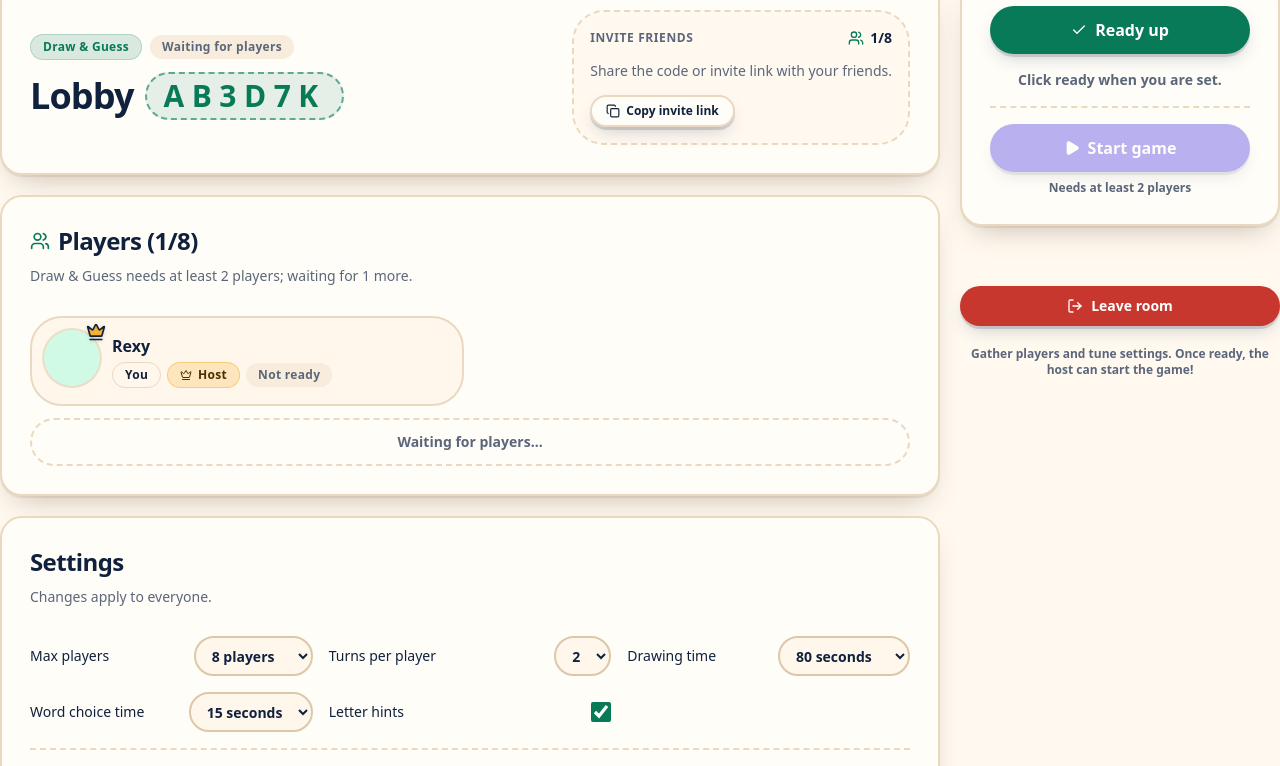
Scenario: LobbyPage › saves host settings with a PATCH
Select "5 players" in the dropdown labelled "Max players": (253, 656) [194,636,313,676]
(page scrolled)
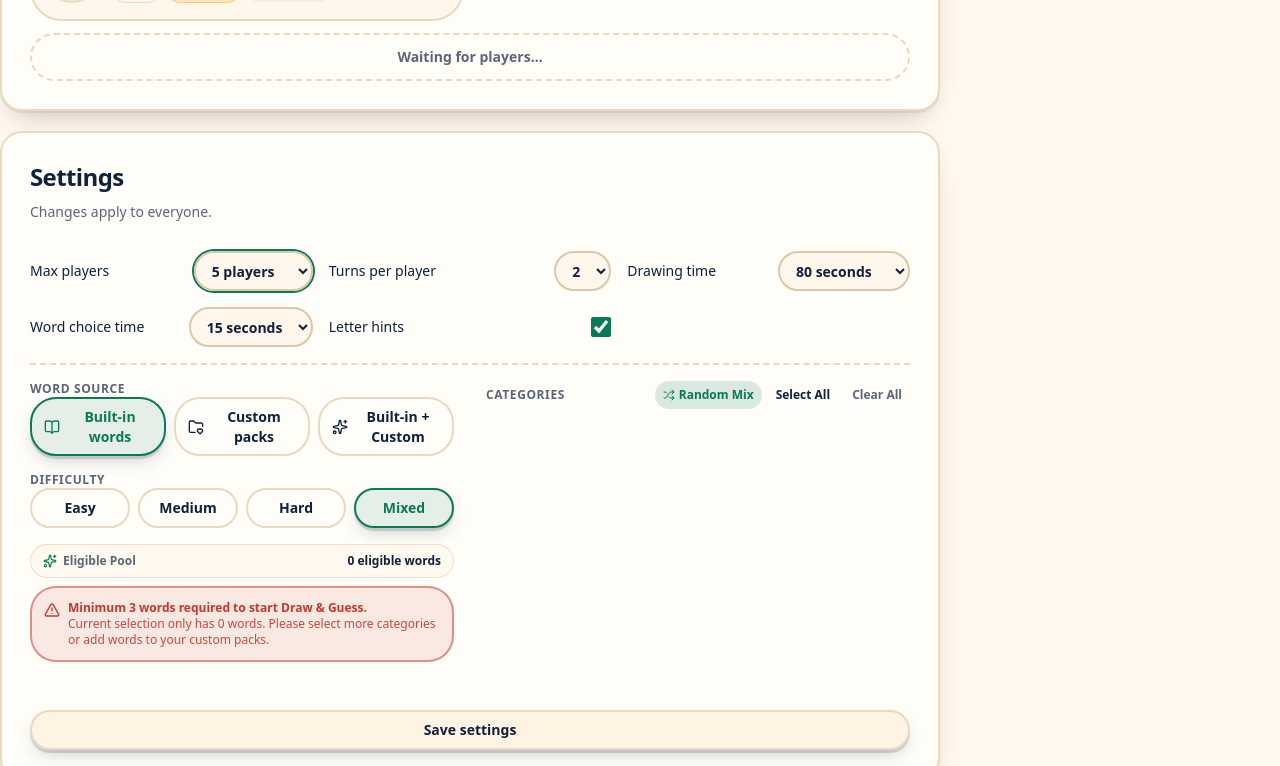
Click the button "Save settings": click(470, 730) [30,710,910,750]
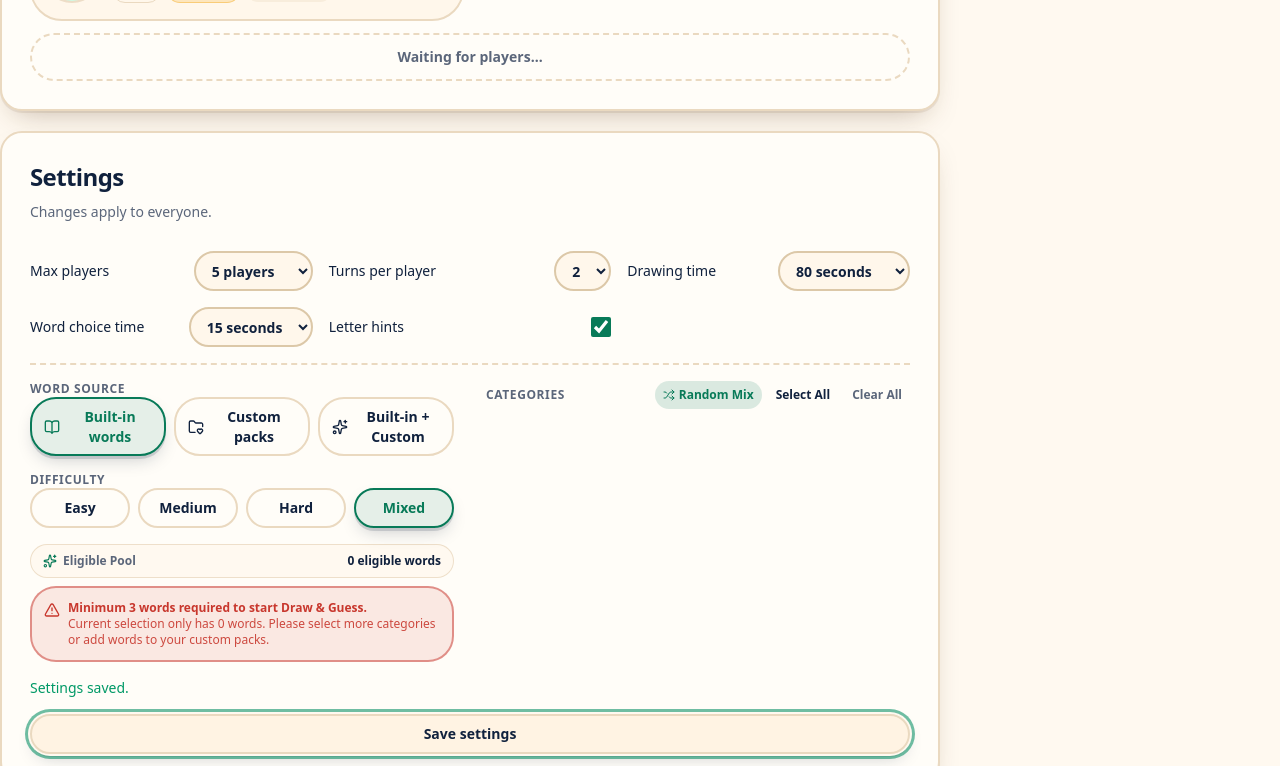
Check: the text "Settings saved." is shown, box [30,678,129,697]
